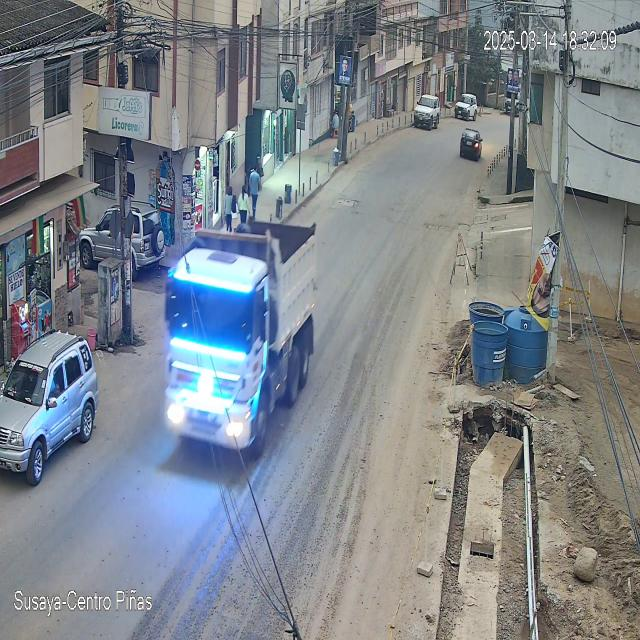TRUCK: (164, 221, 318, 455)
